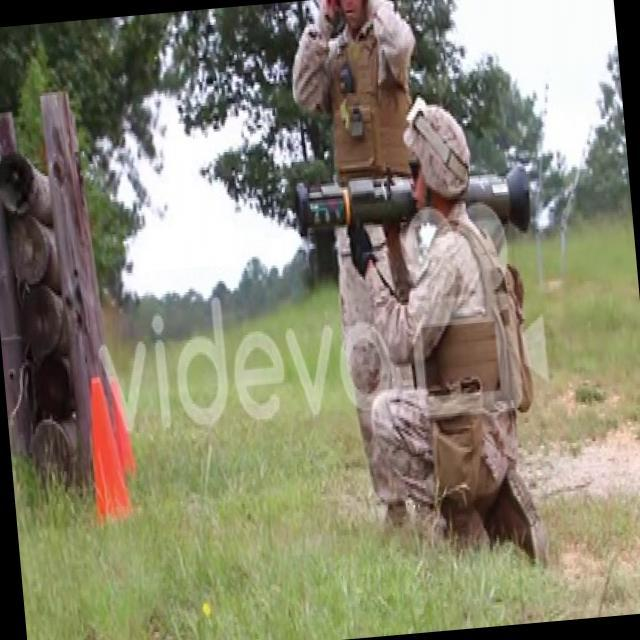rocket: (294, 158, 530, 252)
